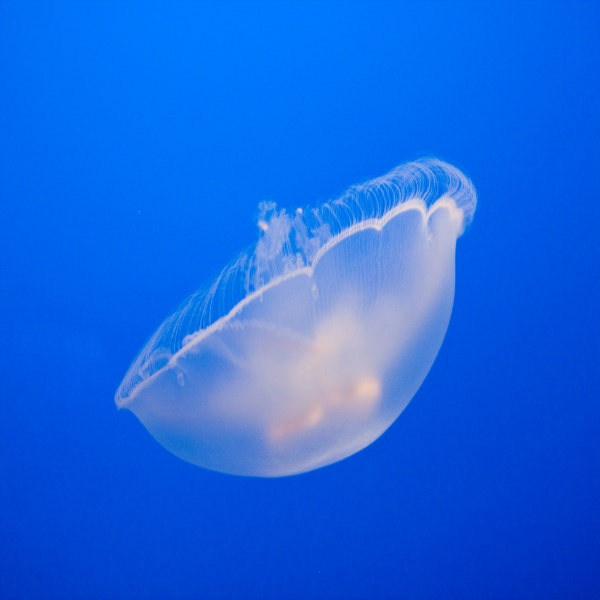Jellyfish: (113, 157, 492, 481)
